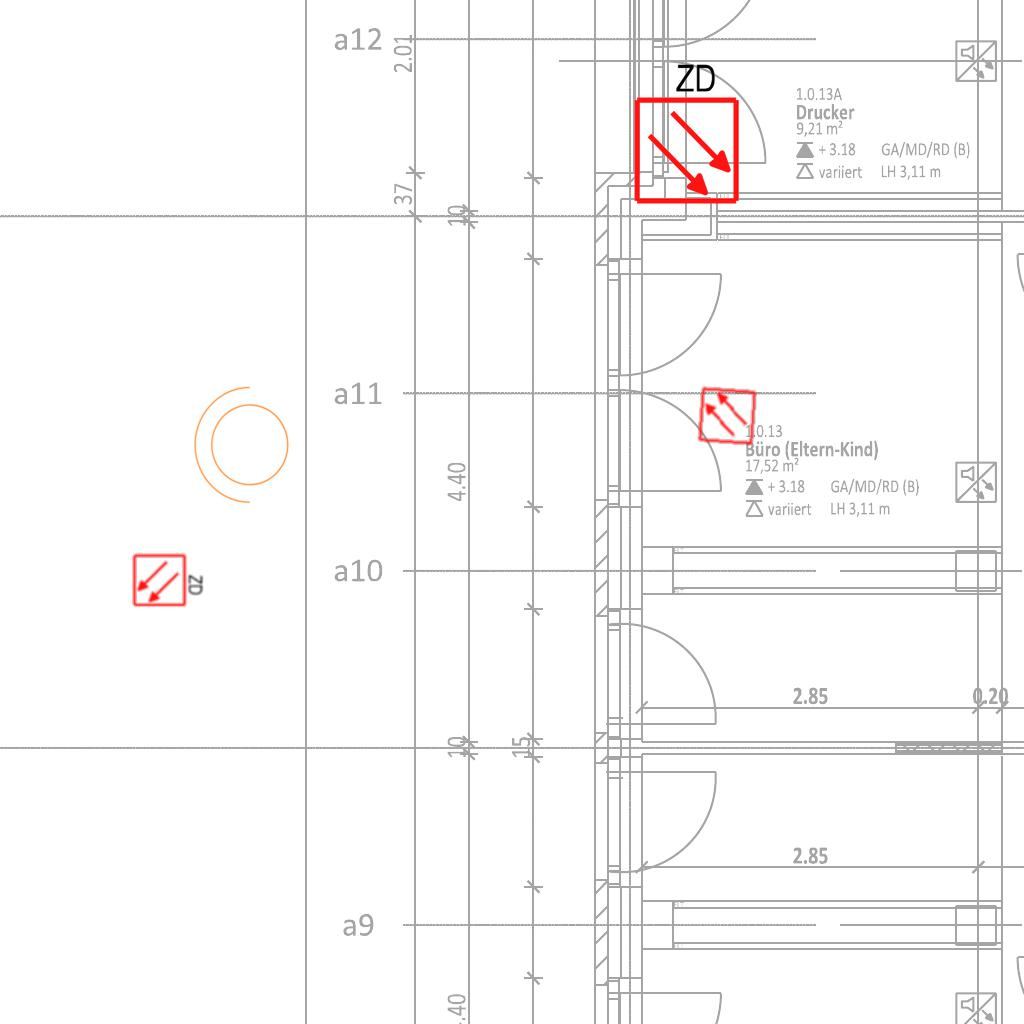RMO_Rauchmelder_optischer: (697, 386, 757, 446)
Scheinwerfer_fuer_Alarmbeleuchtung: (189, 382, 301, 514)
ZD_Melder_in_Zwischendecke_mit_Revisionsoeffnung_mind_40_x_40_cm: (628, 57, 742, 206), (132, 551, 206, 608)
